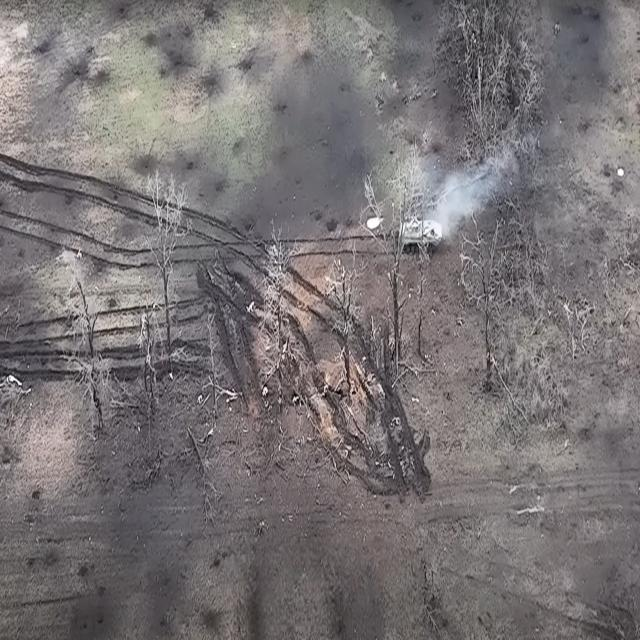AIFV: (399, 217, 444, 258)
